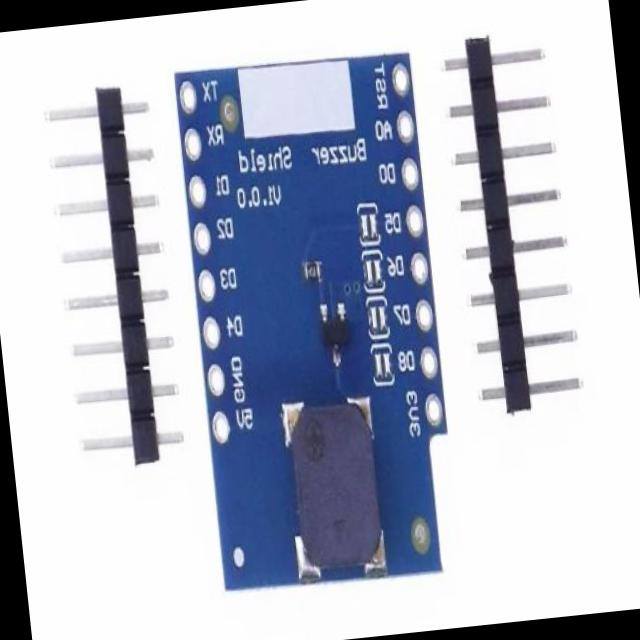connector: (425, 16, 592, 428), (35, 79, 192, 483)
resistor: (299, 259, 324, 291)
transistor: (312, 297, 351, 372)
